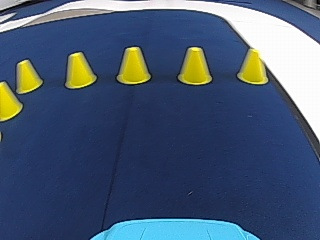cone: (116, 45, 150, 85), (178, 47, 213, 85), (236, 46, 269, 85), (64, 51, 97, 89), (0, 80, 24, 122), (15, 60, 44, 94)
